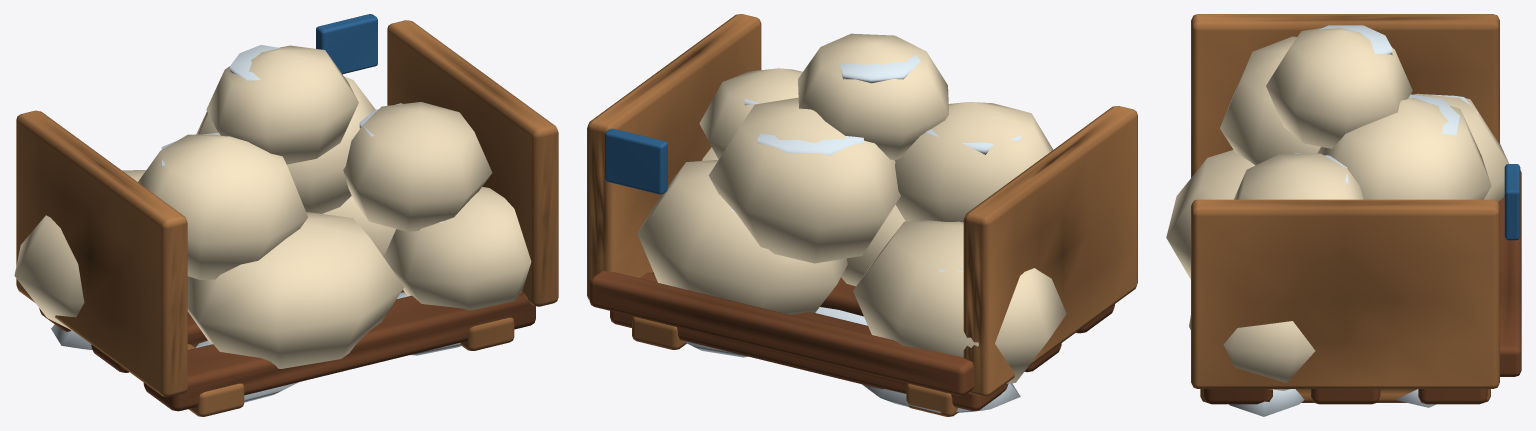
The model's file is stone_stack.glb.
3 renders of one model, left to right at view 1: azimuth 30°, elevation 25°; view 2: azimuth 150°, elevation 25°; view 3: azimuth 270°, elevation 25°, orthographic. The views are drawn at different scales.
Parts seen in each view (by area): view 1: stone_stack; view 2: stone_stack; view 3: stone_stack.
Part boxes in pixels (box(x1,y1,x2,y2)): stone_stack: box(14, 14, 558, 416); stone_stack: box(587, 14, 1137, 416); stone_stack: box(1166, 14, 1521, 416).
Bounding box in the file's own units: 1.69 × 1.07 × 1.15.
